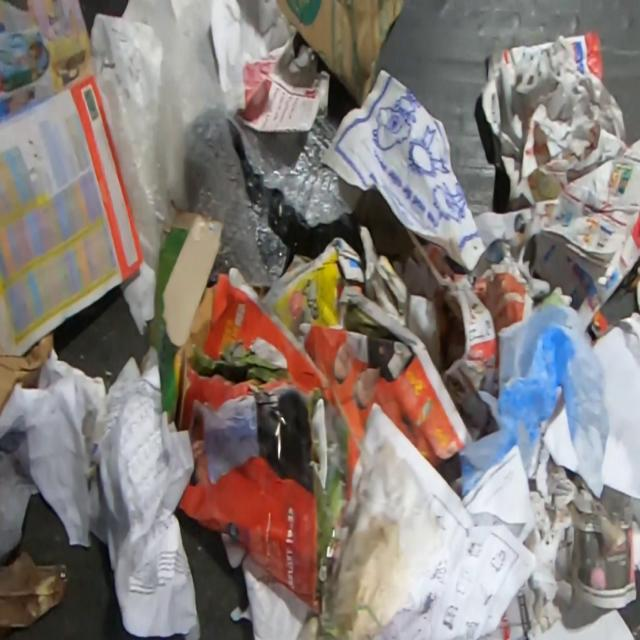cardboard: (148, 208, 223, 425), (276, 0, 404, 106), (0, 328, 55, 419)
soft_plastic: (88, 0, 364, 289)
